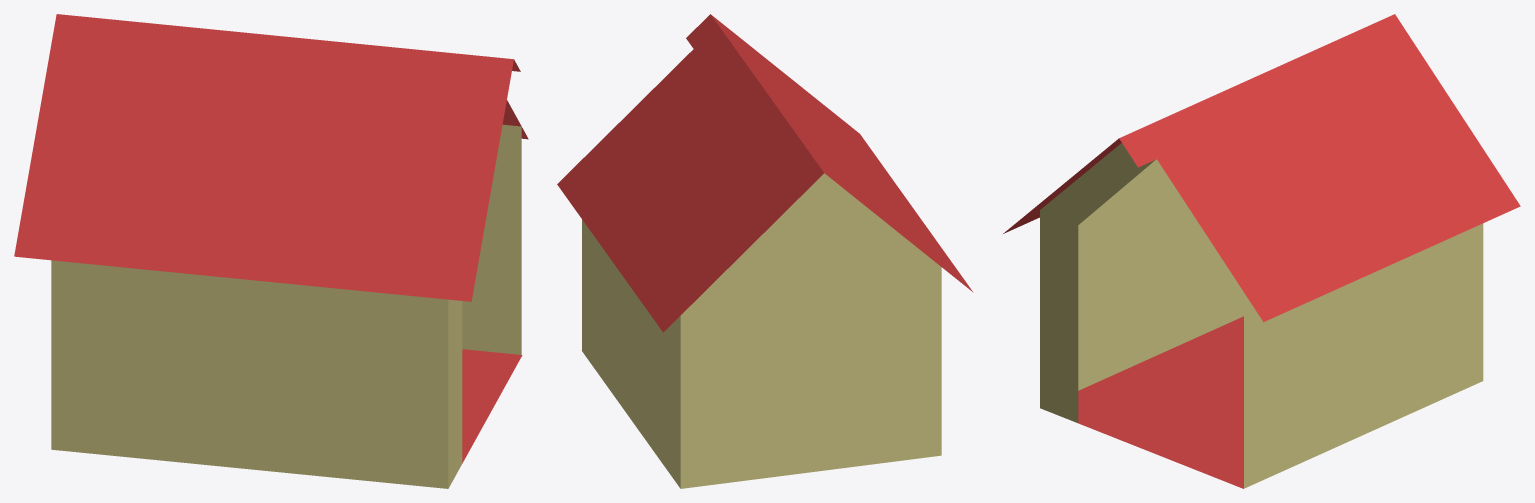
3 renders of one model, left to right at view 1: azimuth 30°, elevation 25°; view 2: azimuth 150°, elevation 25°; view 3: azimuth 270°, elevation 25°, orthographic. The views are drawn at different scales.
Size of the model in its own units: 14.13 by 14.6 by 9.83.
